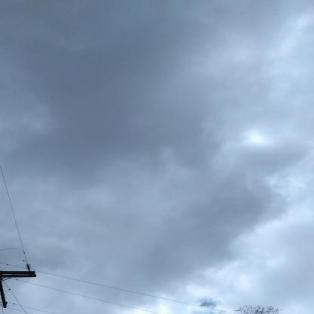Poste: (0, 263, 10, 314)
